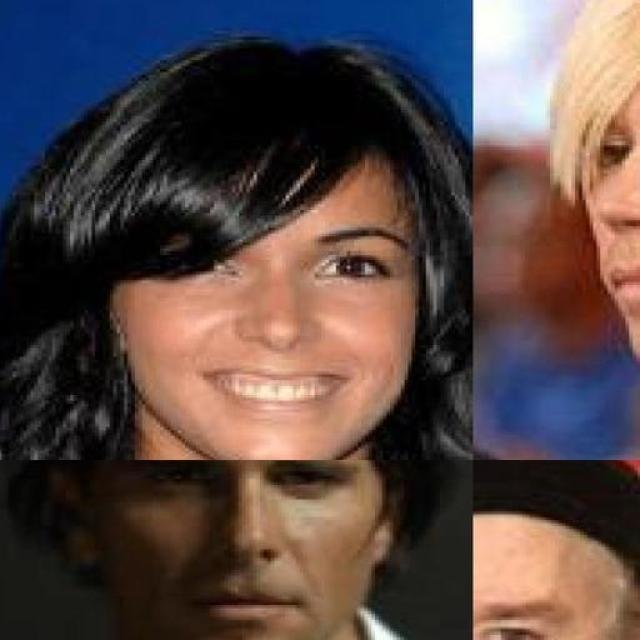bareface: (89, 142, 420, 457)
